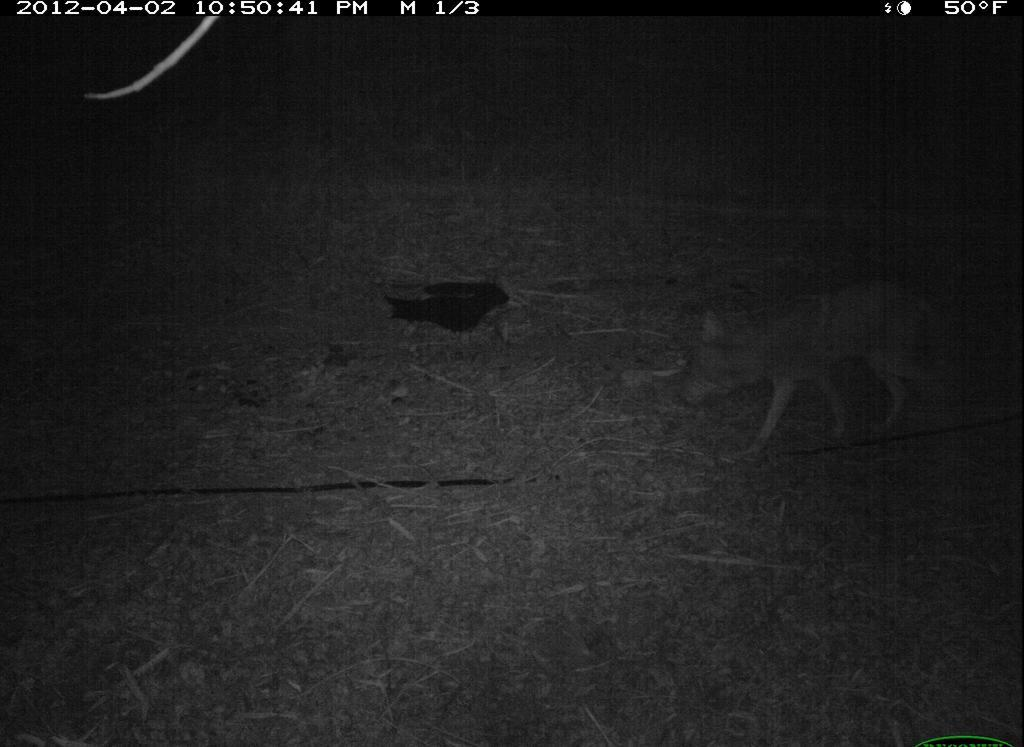coyote: (672, 273, 977, 460)
